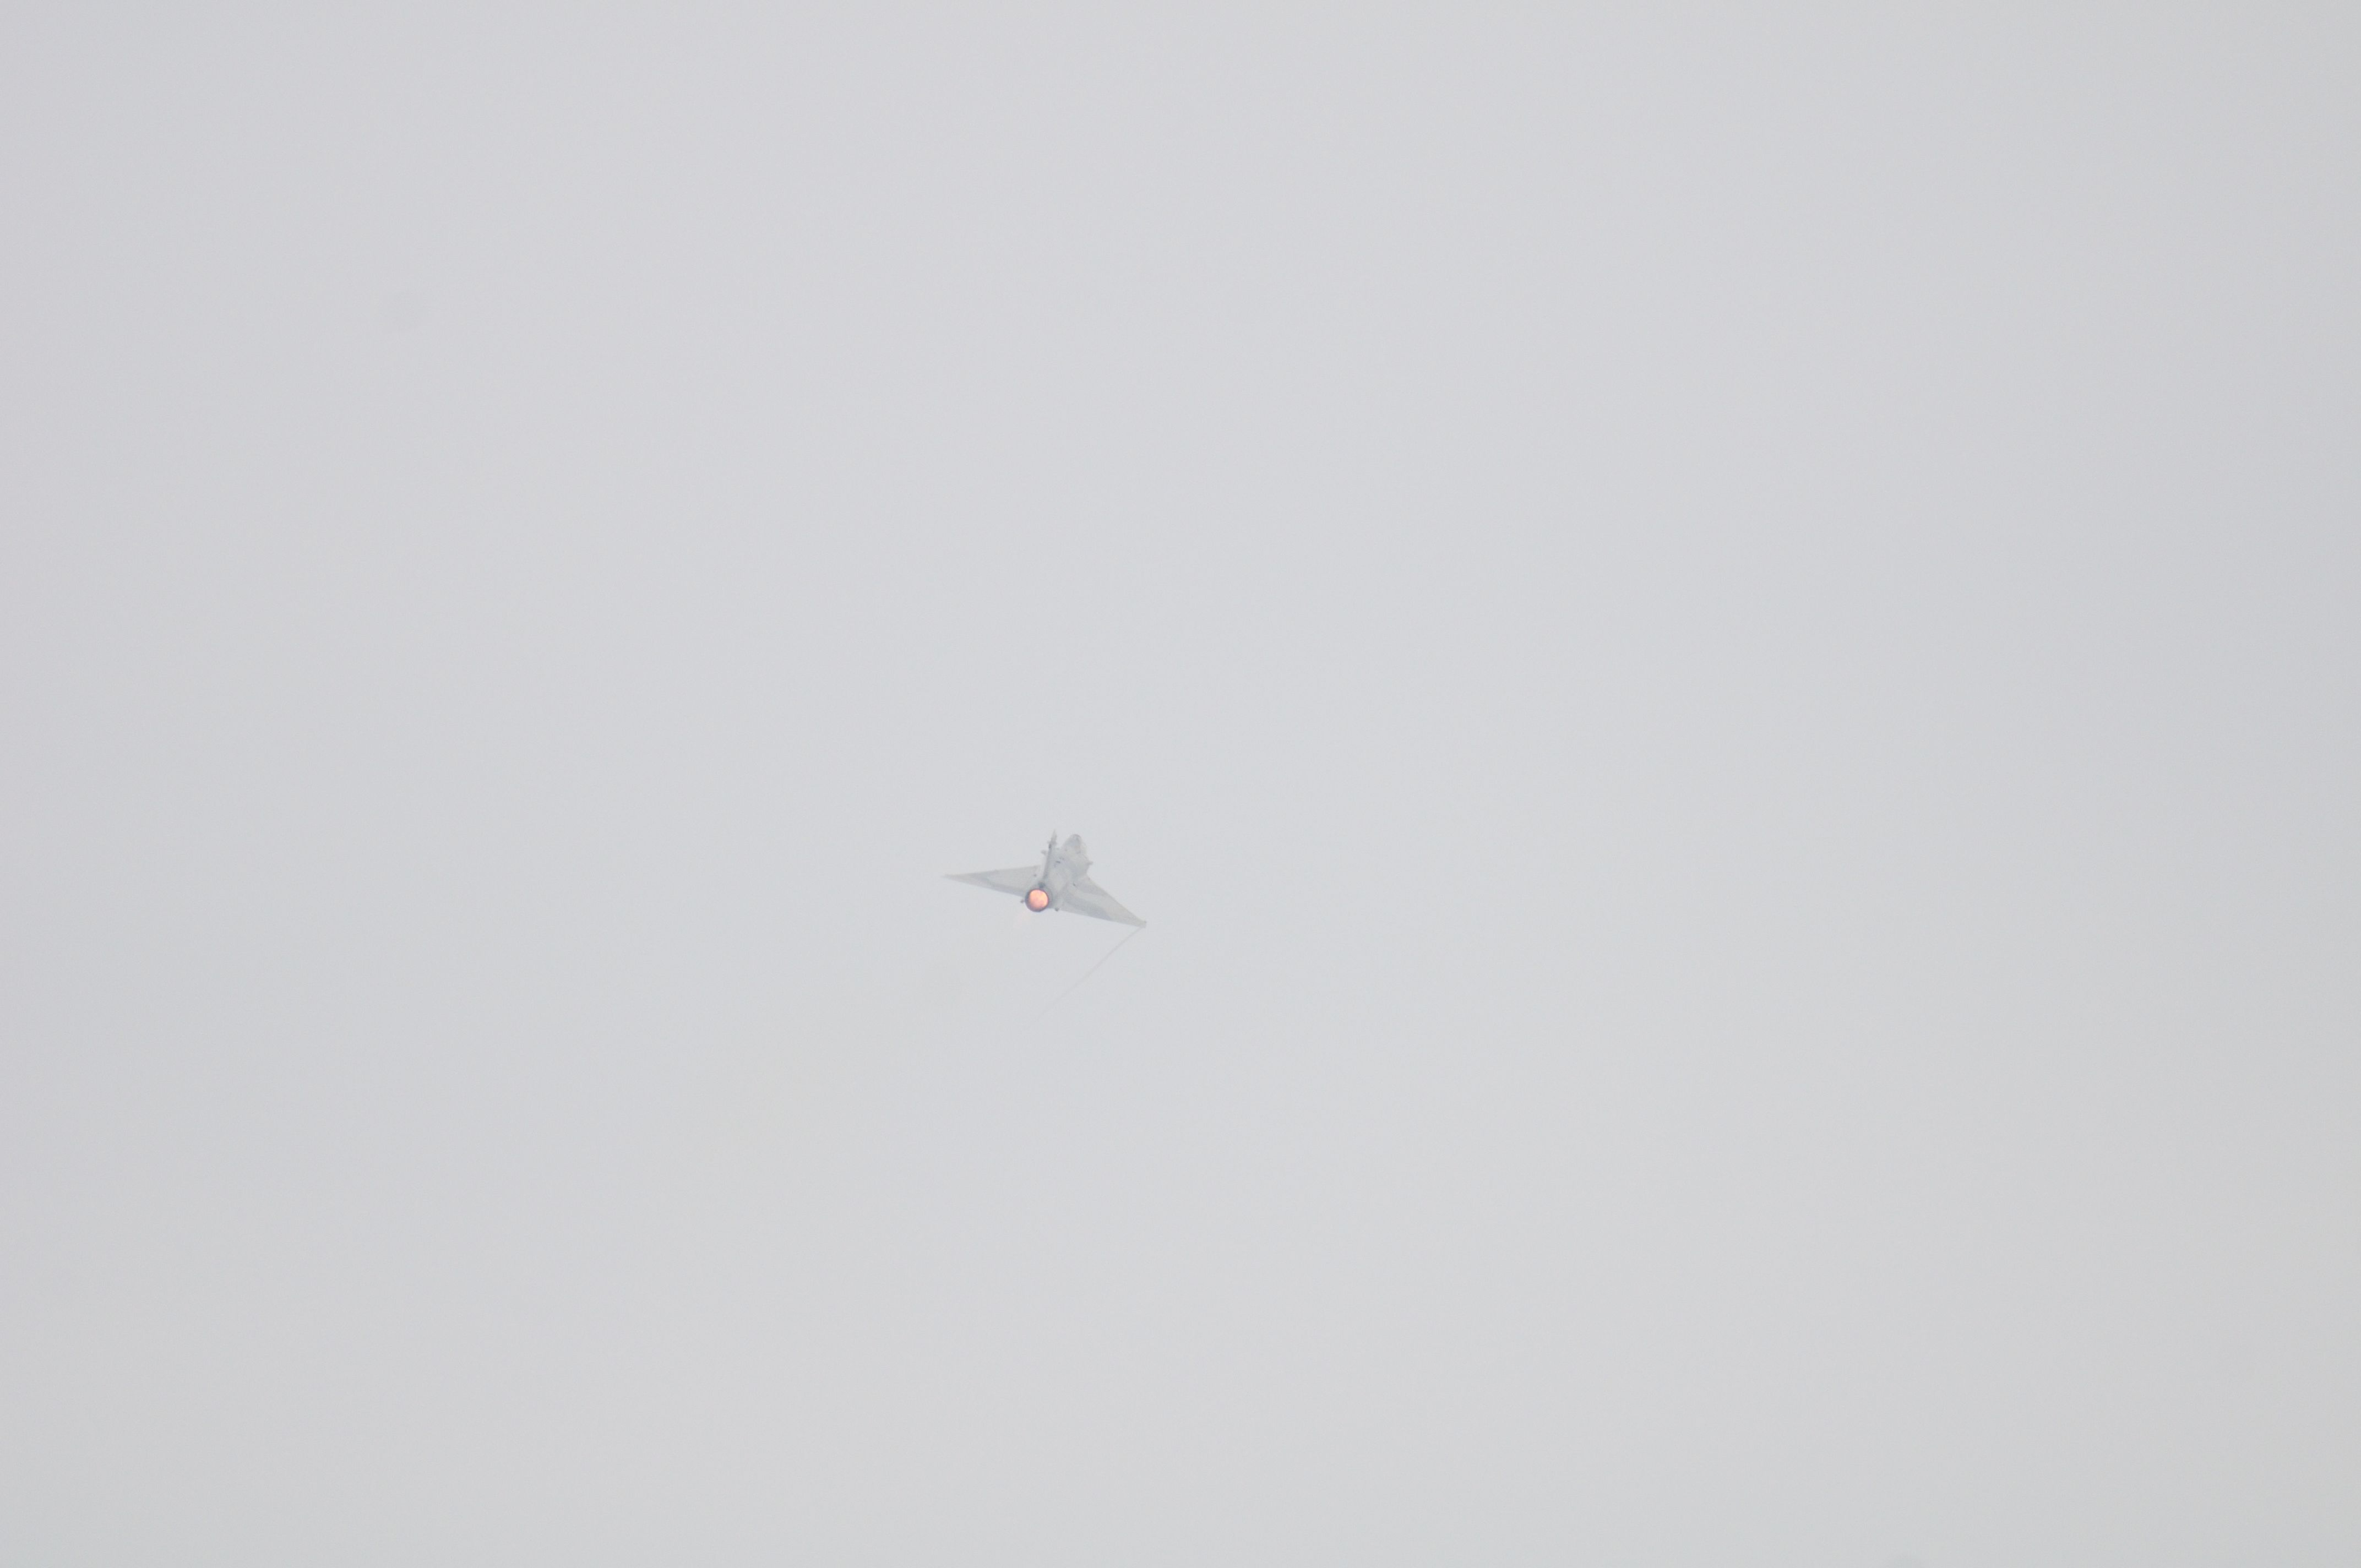Mirage2000: (940, 828, 1148, 929)
